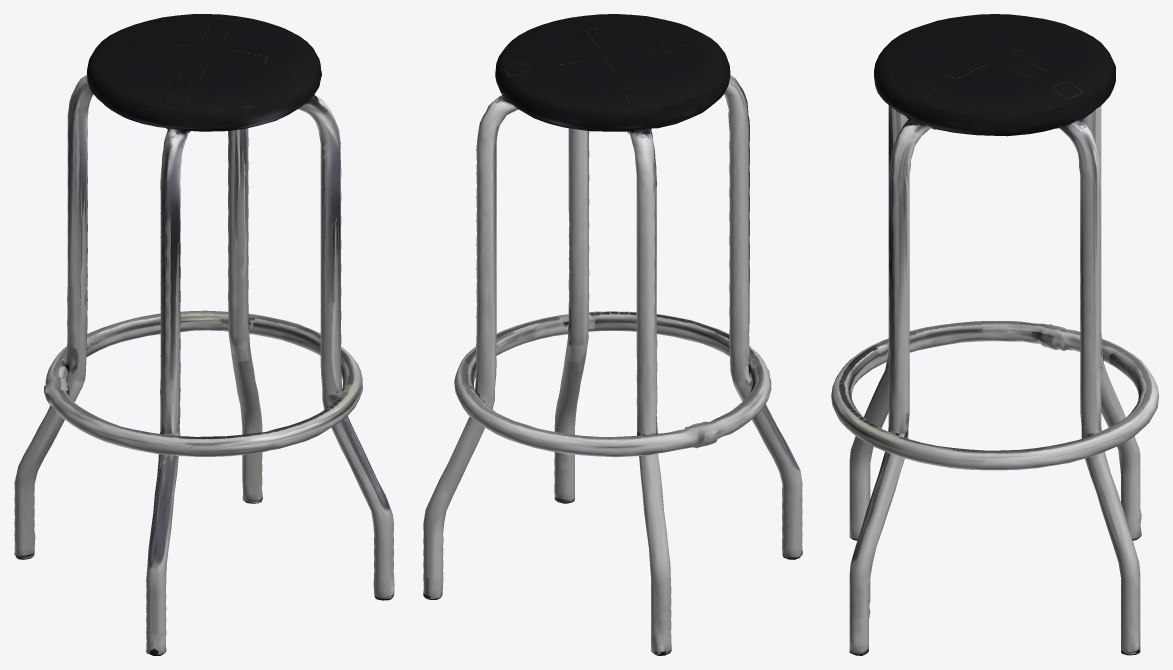
Rendered from Bar_Stool_Black_Seat_0403041937_texture.glb.
The picture shows the model from 3 angles, left to right: view 1: azimuth 30°, elevation 25°; view 2: azimuth 150°, elevation 25°; view 3: azimuth 270°, elevation 25°; orthographic projection. The views are drawn at different scales.
Parts seen in each view (by area): view 1: Mesh_0.001; view 2: Mesh_0.001; view 3: Mesh_0.001.
Boxes of the visible parts, x1,y1,x2,y2 form: Mesh_0.001: [14, 14, 394, 655]; Mesh_0.001: [423, 14, 802, 655]; Mesh_0.001: [831, 14, 1158, 655].
Bounding box in the file's own units: 0.4178 × 0.762 × 0.4178.
1 material, 1 textured.
